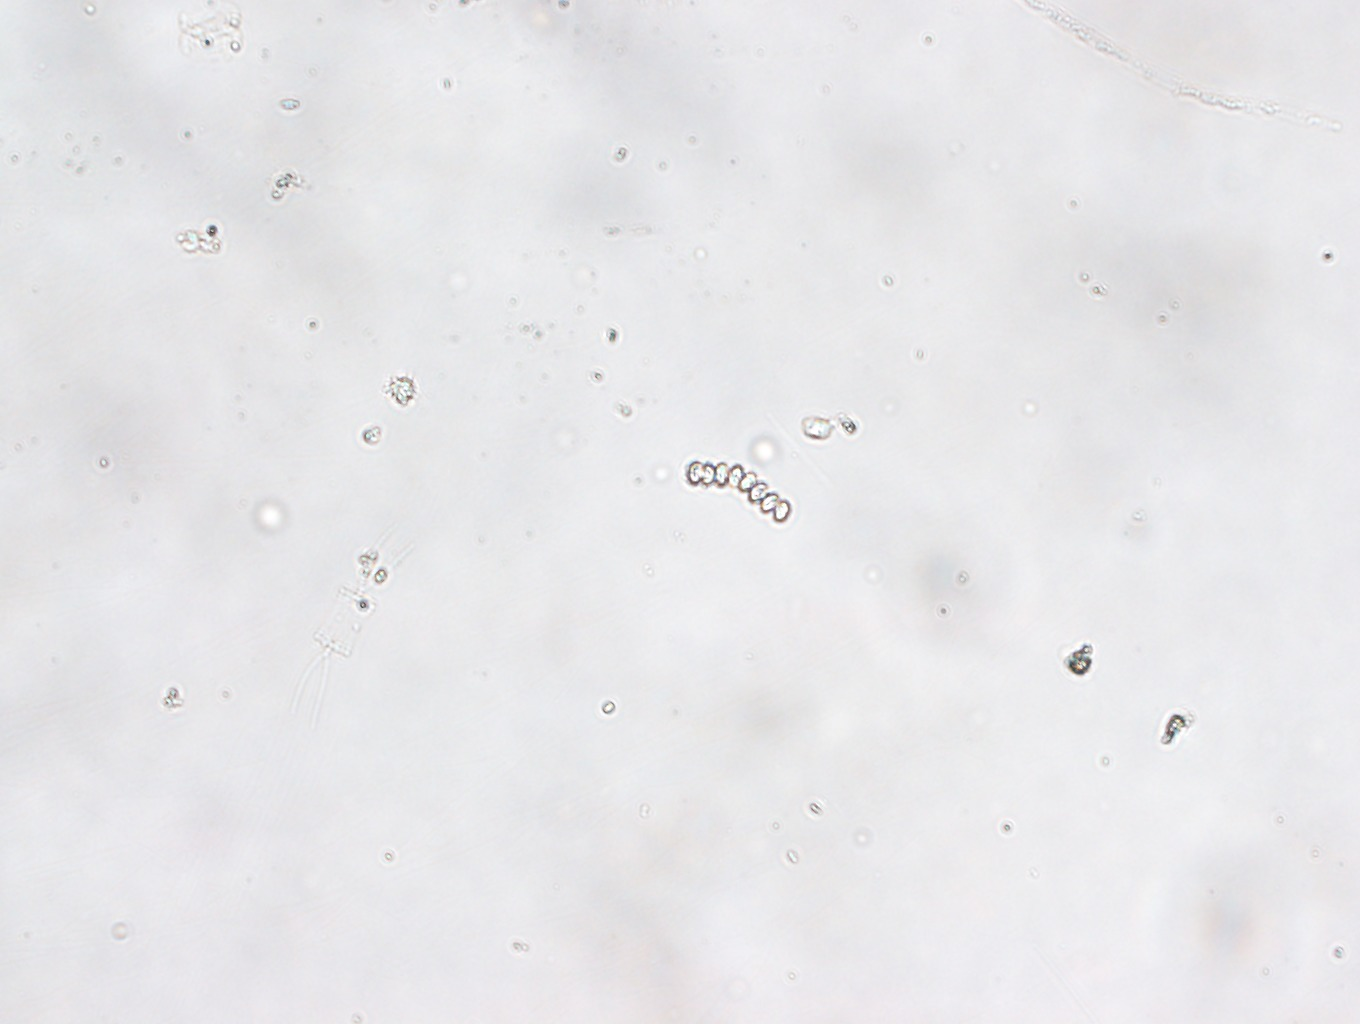skeletonema: (683, 460, 791, 523)
